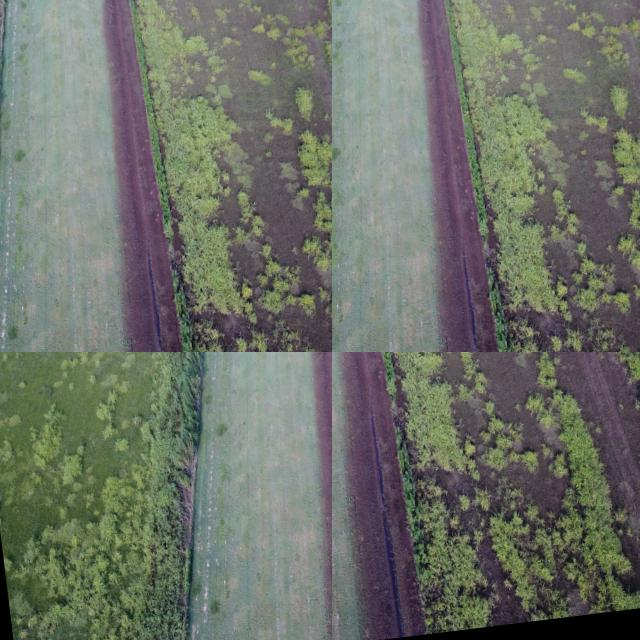fire: (332, 25, 640, 352)
